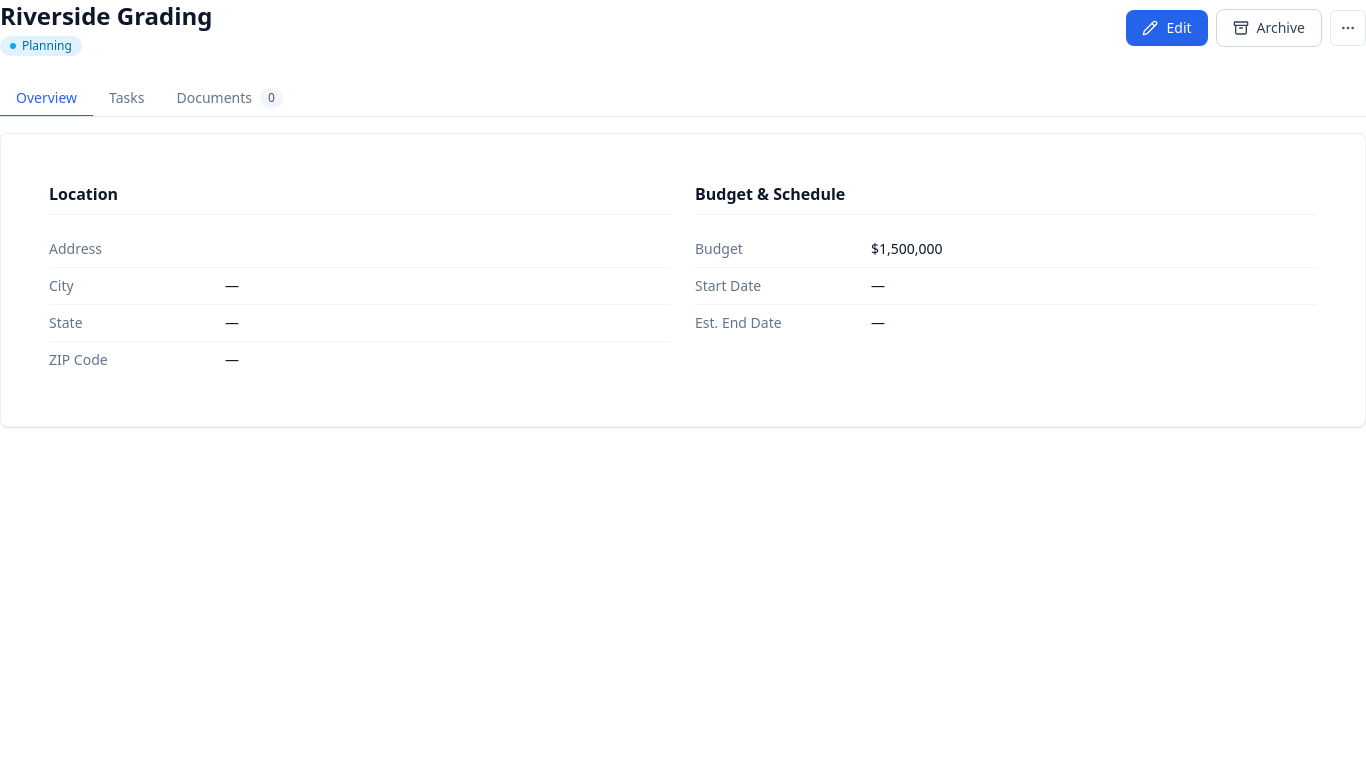
Test case: ProjectDetailPage edit form › is remounted per open, so it never serves pre-edit values after a change
The image size is (1366, 768).
Click the button "Edit" at (1167, 28), box [1126, 10, 1208, 46]
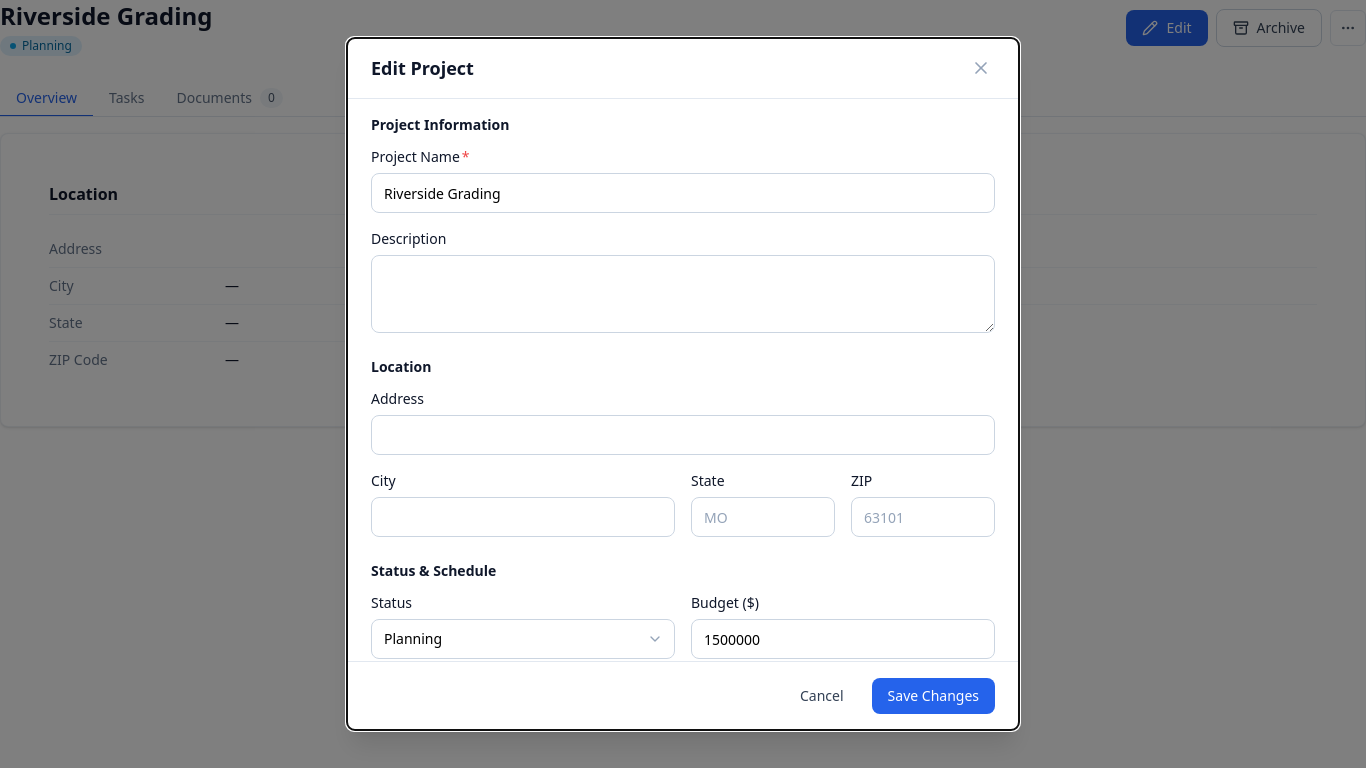
expect the field named "name" below "Project Name" holds "Riverside Grading": met, box [371, 173, 995, 213]
Click the button "Cancel" at (822, 696), box [784, 678, 860, 714]
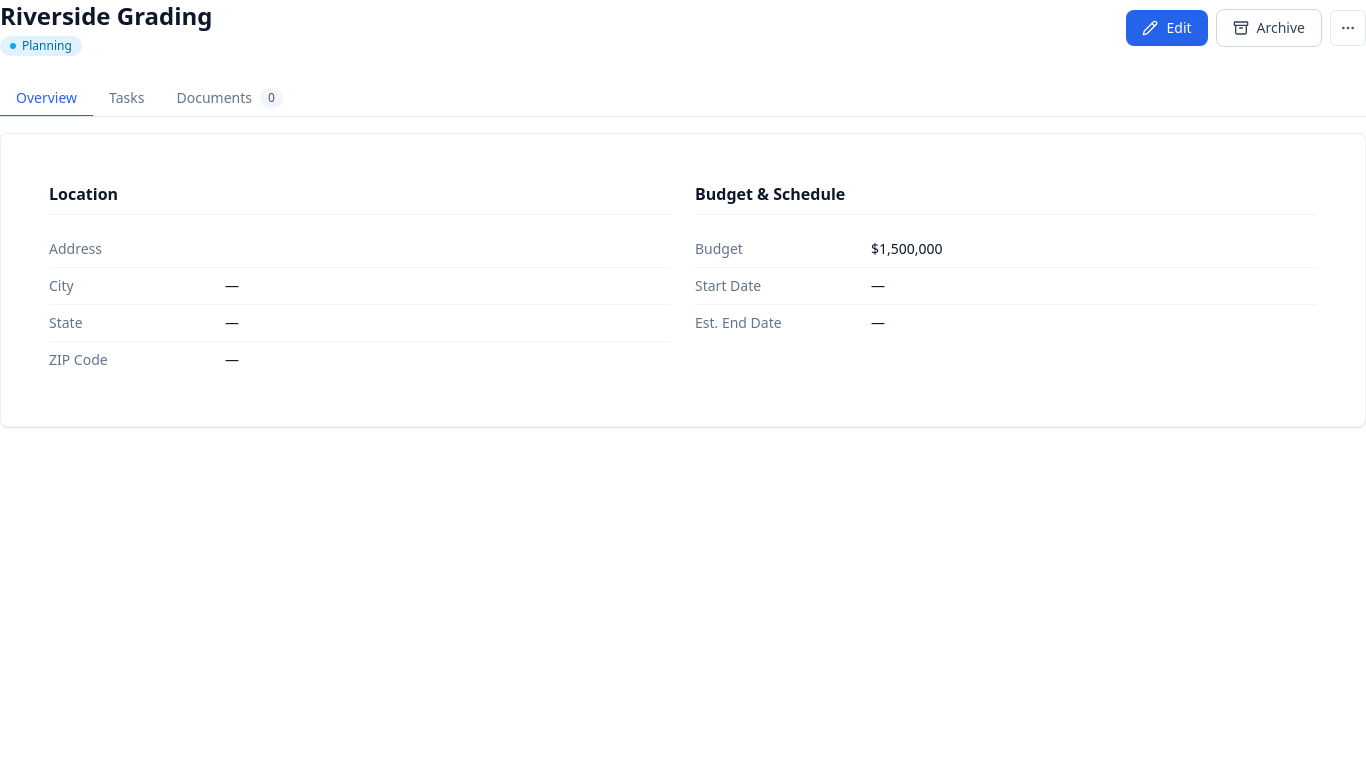
Click the button "Edit" at (1167, 28), box [1126, 10, 1208, 46]
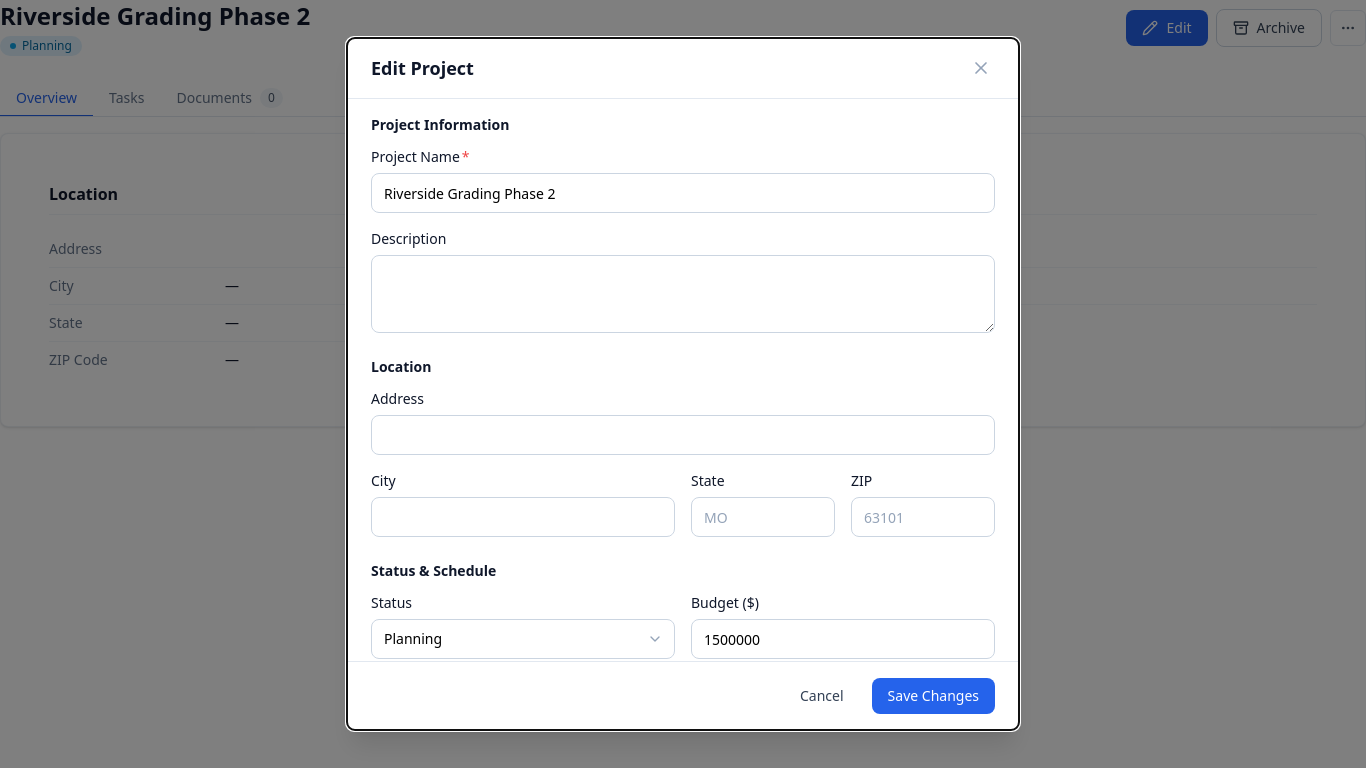
expect the field named "name" below "Project Name" holds "Riverside Grading Phase 2": met, box [371, 173, 995, 213]
